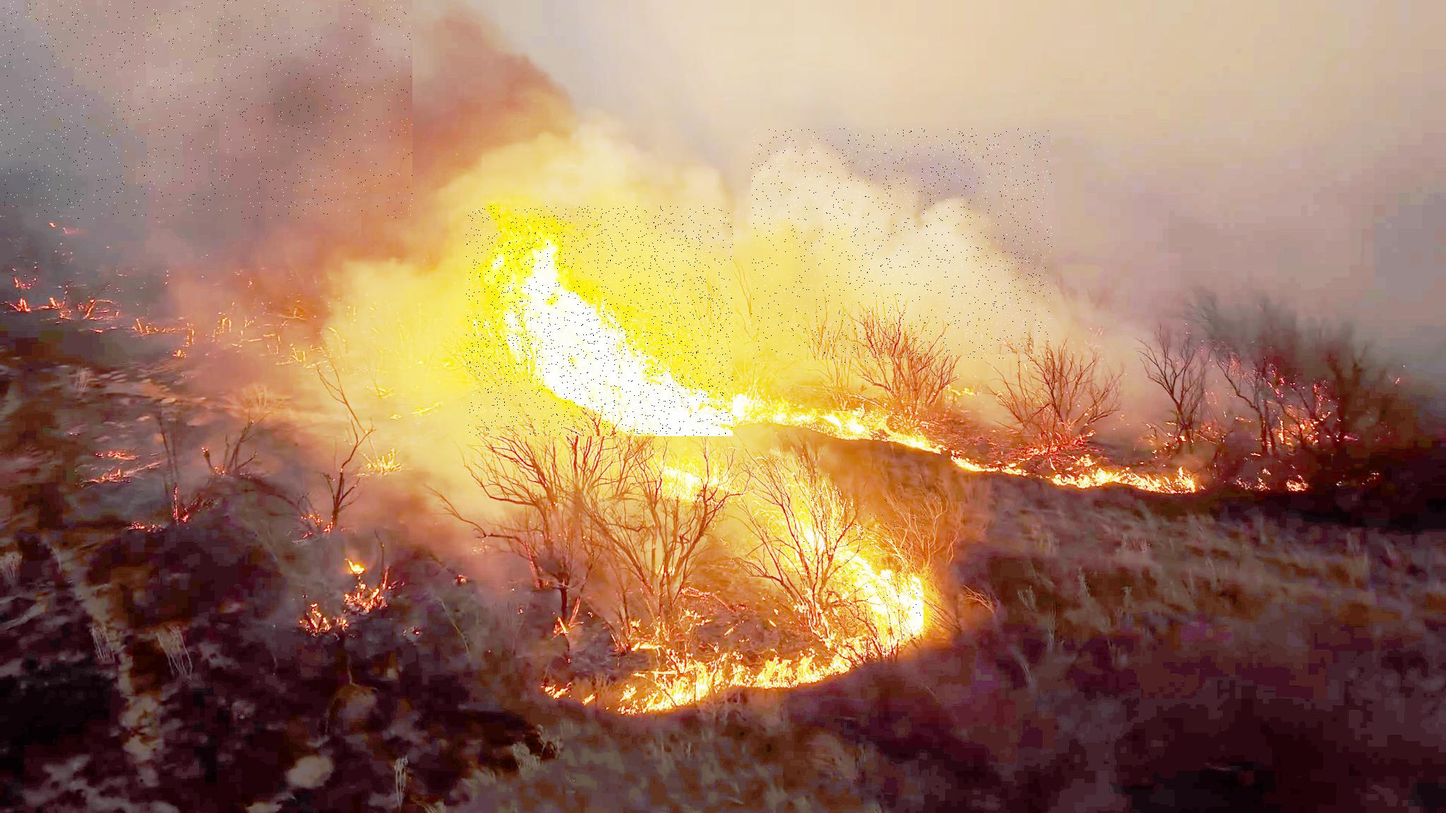fire: (466, 206, 733, 436), (801, 495, 924, 639)
smoke: (0, 0, 412, 219), (751, 128, 1052, 363)
